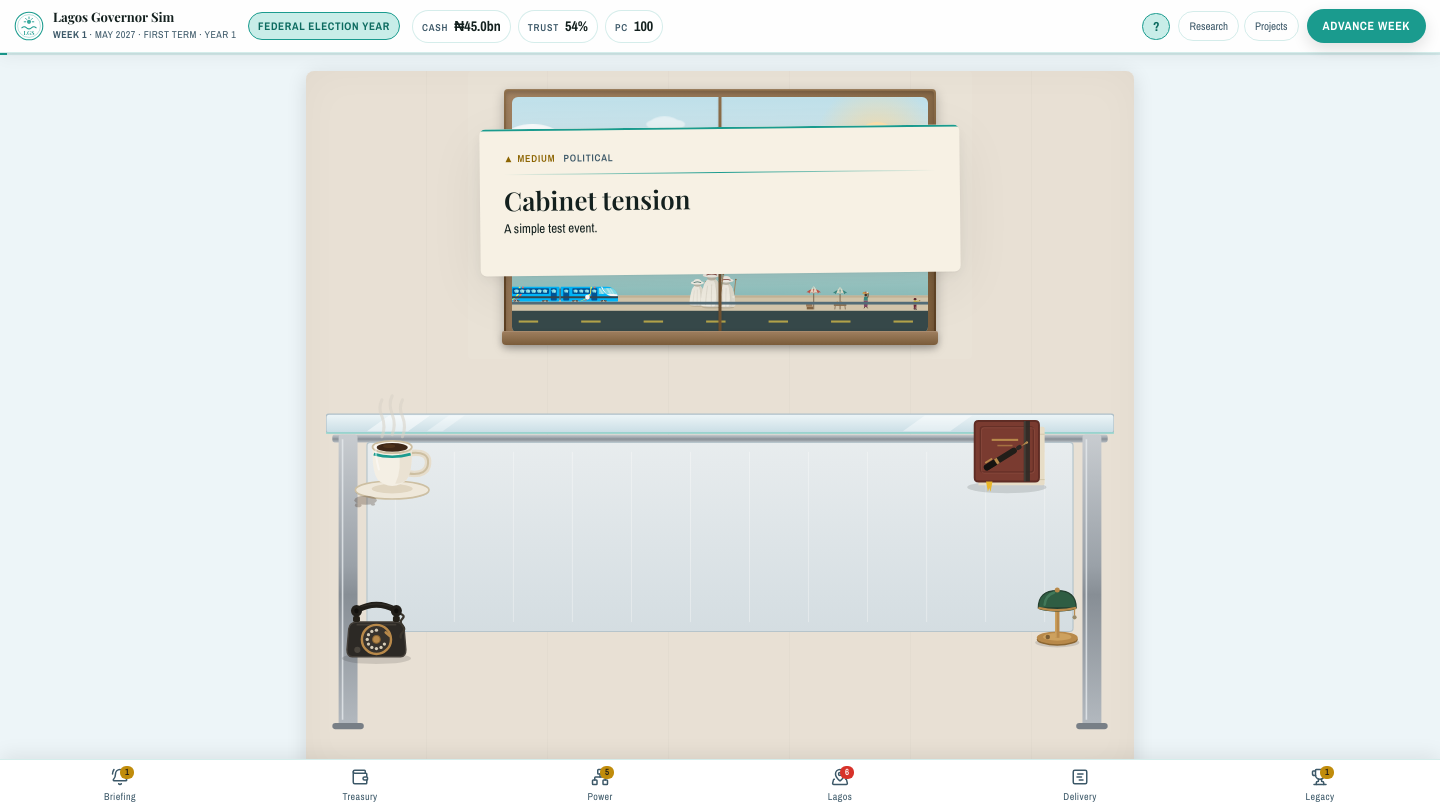
GameApp dock redesign › closes the overlay by Escape and backdrop click
Click the button with aria-label "Open Briefing panel" at (120, 785), box [0,760,240,809]
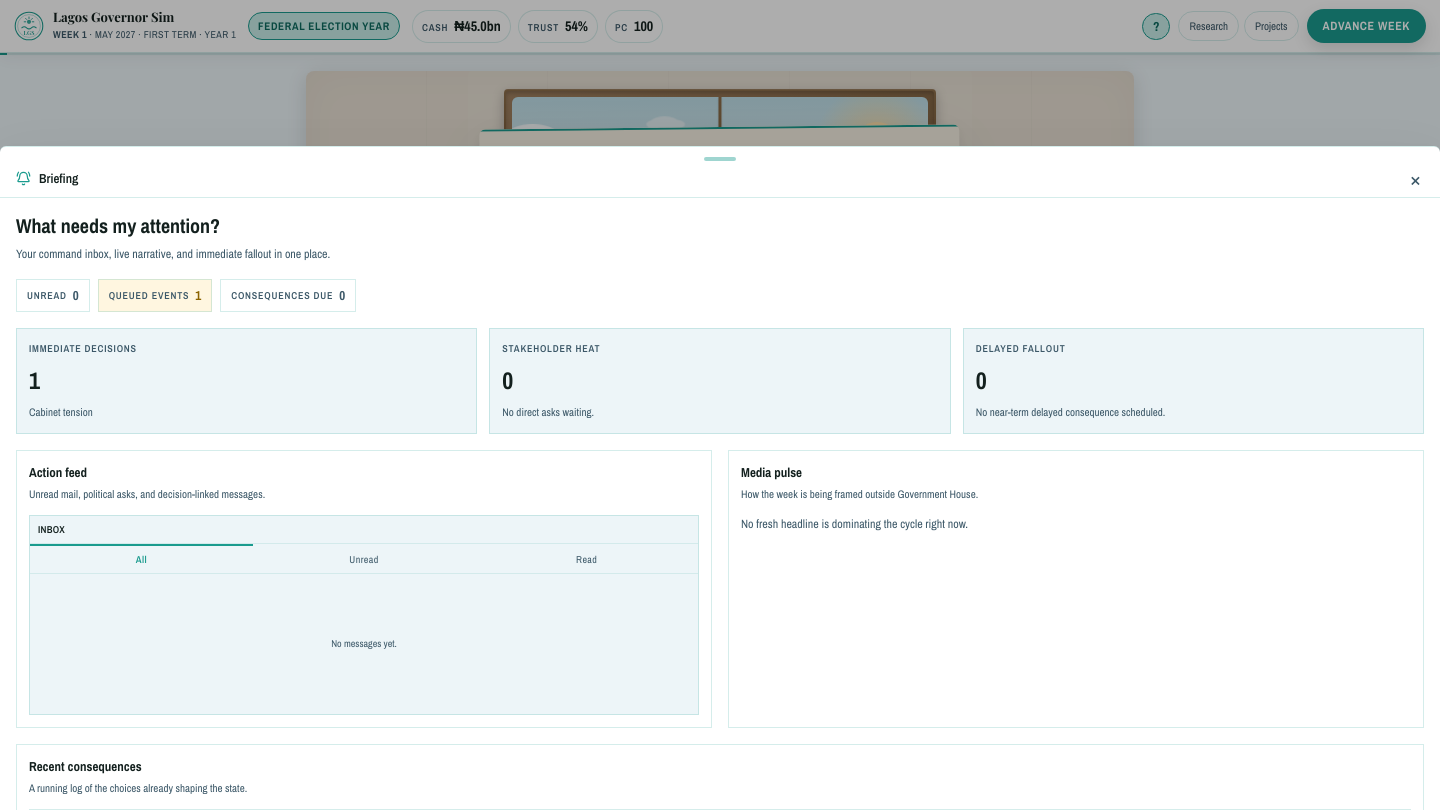
Now the dialog is shown
Press Escape
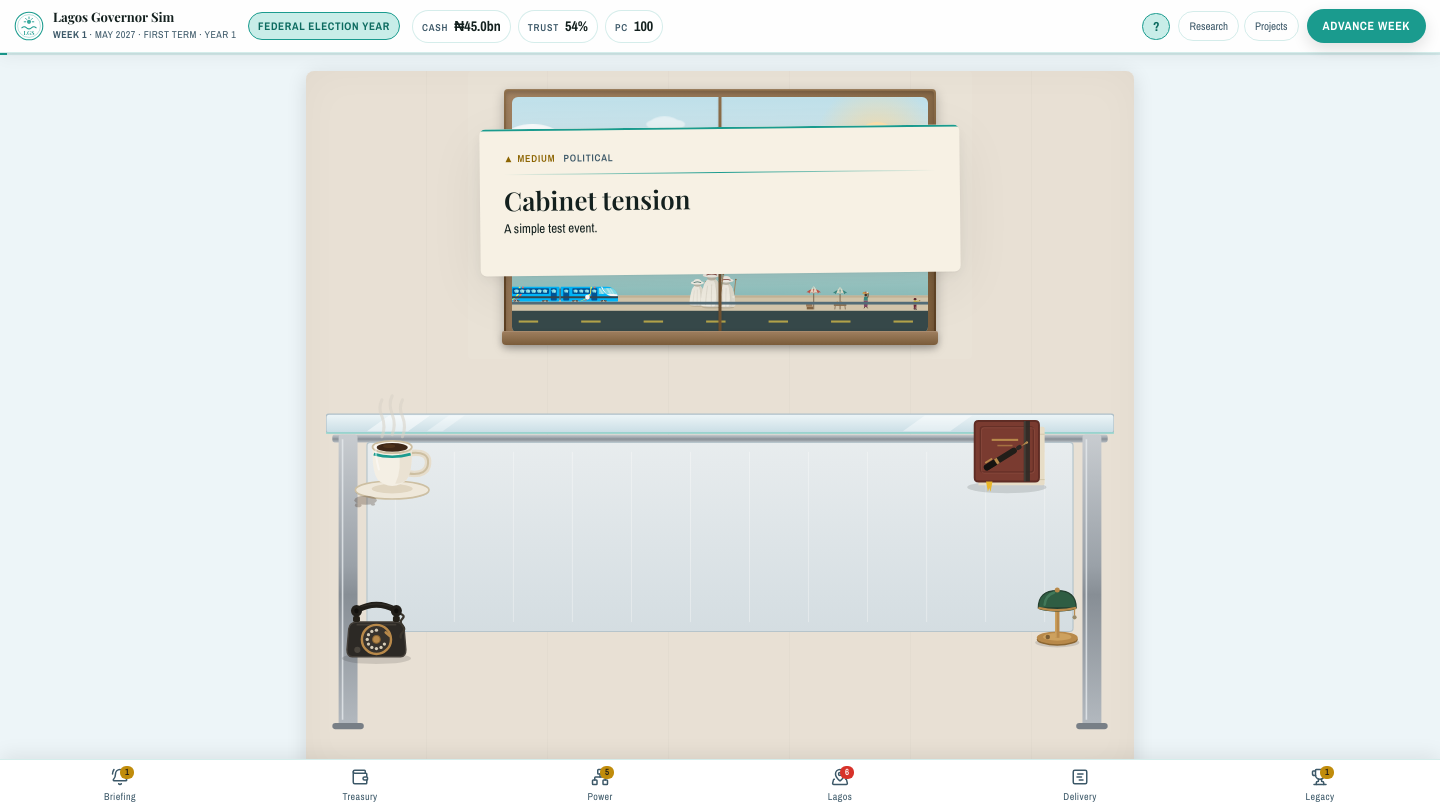
Now the dialog is gone
Click the button with aria-label "Open Briefing panel" at (120, 785), box [0,760,240,809]
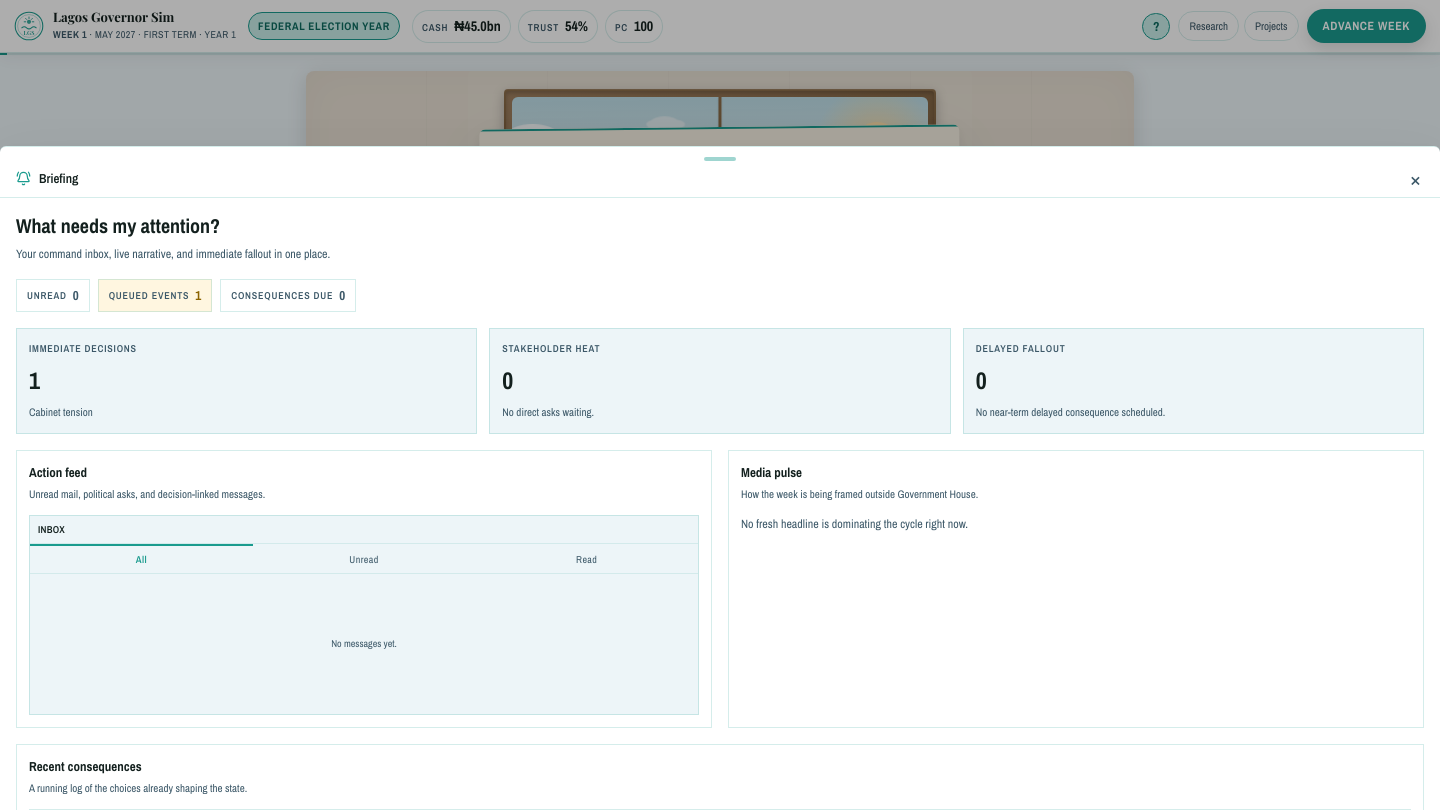
Click the button named "Close panel backdrop" at (720, 49), box [0,0,1439,809]
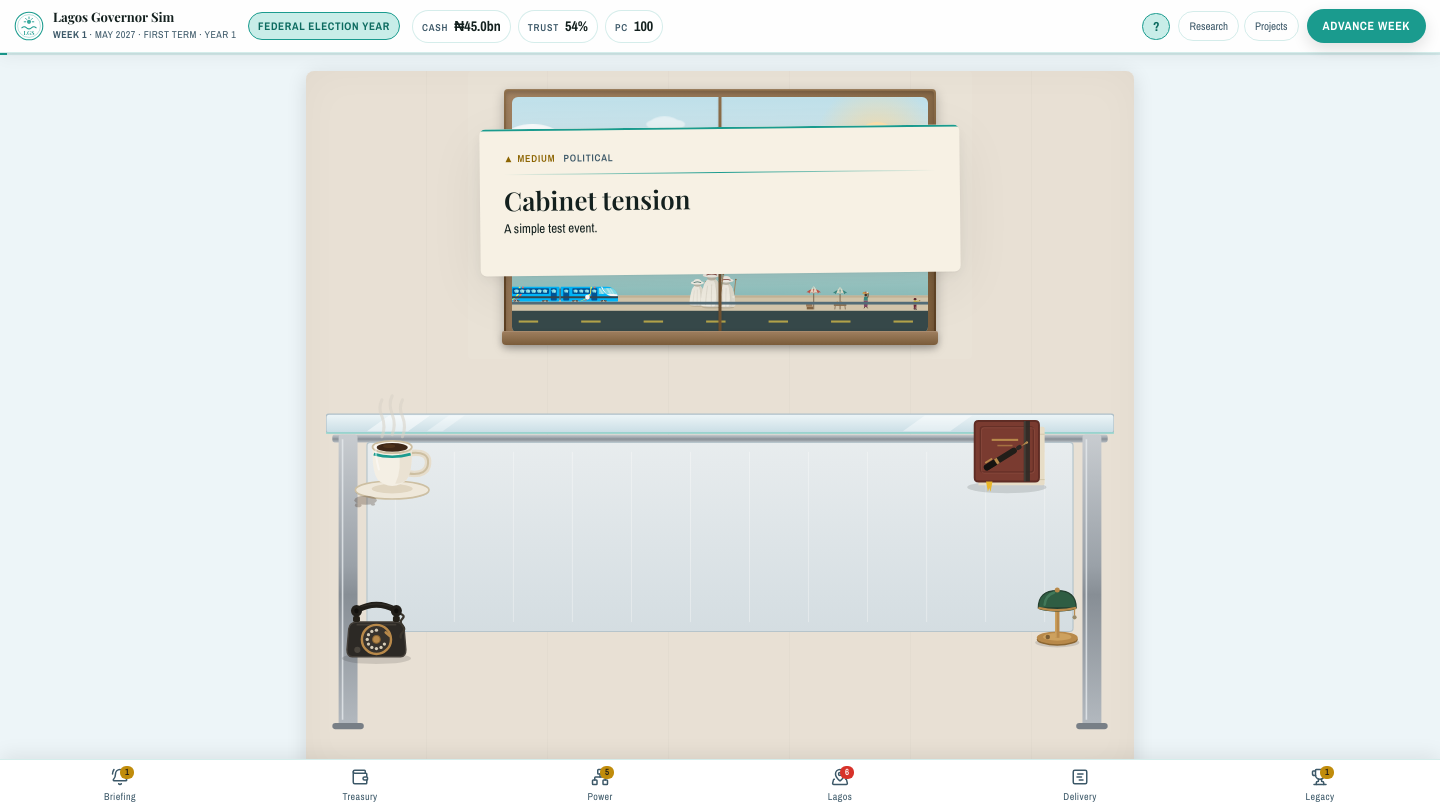
Now the dialog is gone
